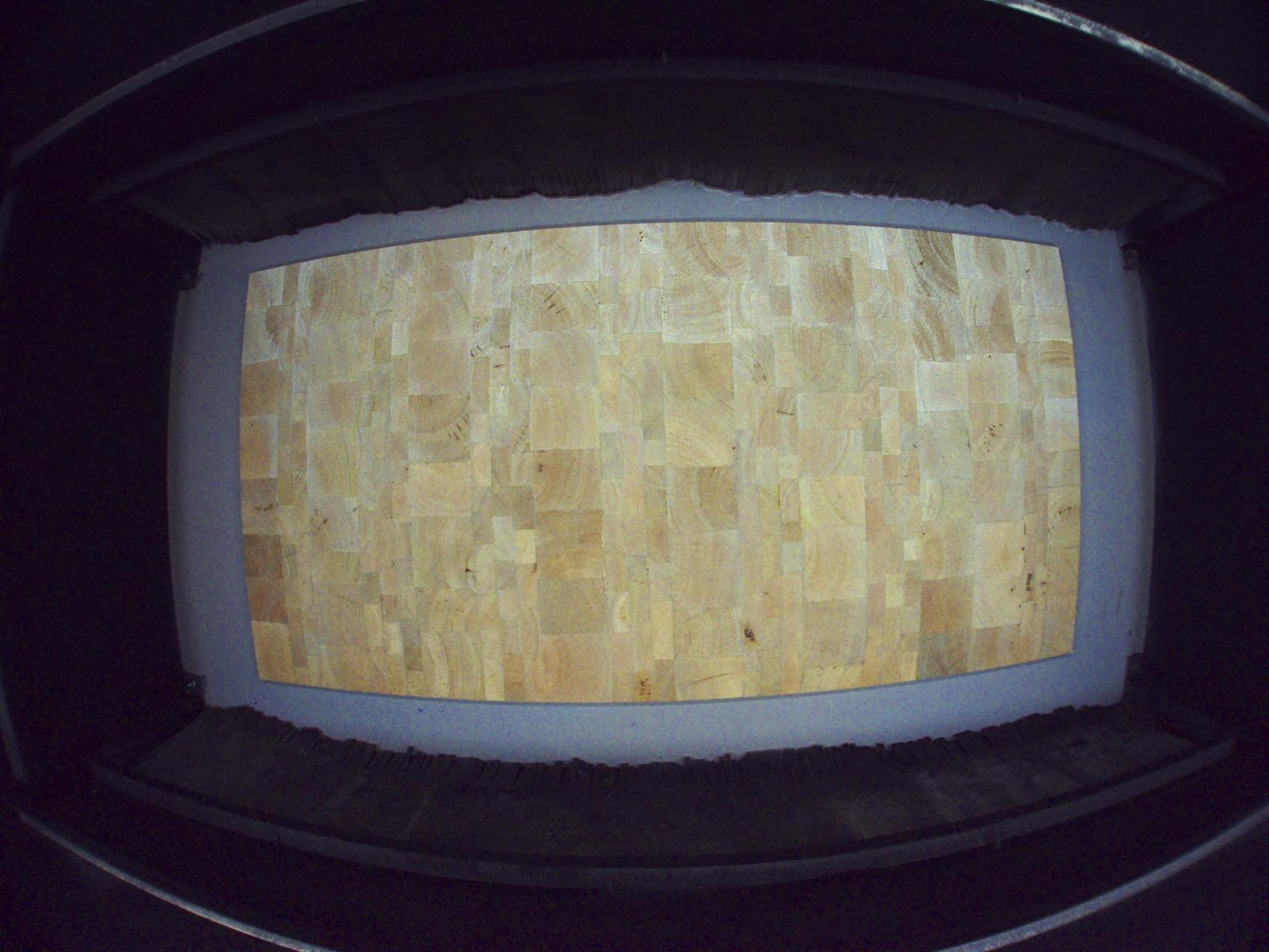nudillo: (742, 625, 760, 647)
